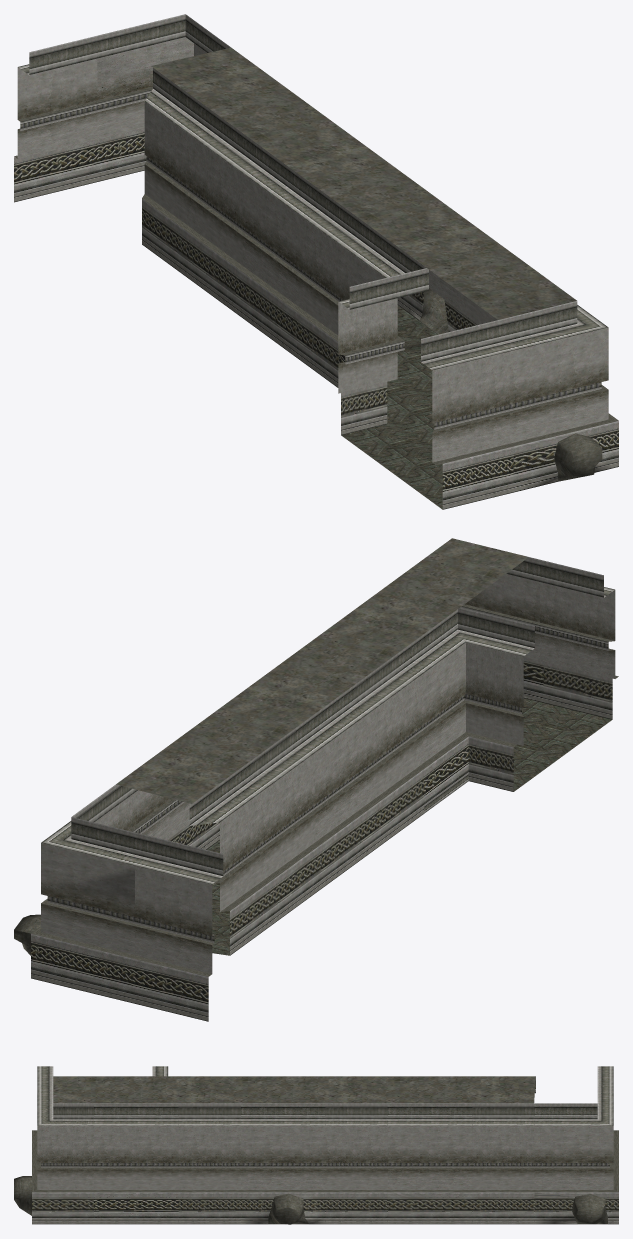
Rendered from DWARF_PALACE_ARKENSTO.fbx.
The picture shows the model from 3 angles, top to bottom: view 1: azimuth 30°, elevation 25°; view 2: azimuth 150°, elevation 25°; view 3: azimuth 270°, elevation 25°; orthographic projection. The views are drawn at different scales.
Visible parts, largest first — view 1: DWARF_PALACE_ARKENSTO; view 2: DWARF_PALACE_ARKENSTO; view 3: DWARF_PALACE_ARKENSTO.
Part boxes in pixels (x1,y1,x2,y2): DWARF_PALACE_ARKENSTO: (14, 14, 618, 509); DWARF_PALACE_ARKENSTO: (14, 538, 618, 1021); DWARF_PALACE_ARKENSTO: (14, 1066, 618, 1224).
Bounding box in the file's own units: 98081 × 70000 × 342206.
7 materials, 7 textured.
